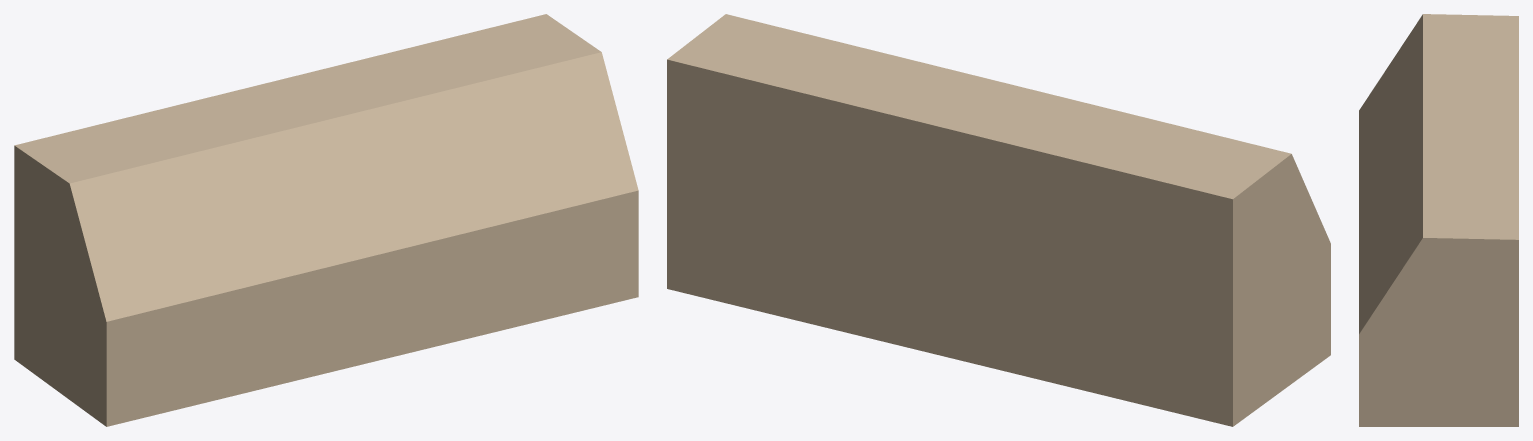
The model's file is SM_Ground_Curb_01.fbx.
3 views of the same model, side by side, from view 1: azimuth 30°, elevation 25°; view 2: azimuth 150°, elevation 25°; view 3: azimuth 270°, elevation 25° (orthographic). The views are drawn at different scales.
Parts seen in each view (by area): view 1: SM_Ground_Curb_01; view 2: SM_Ground_Curb_01; view 3: SM_Ground_Curb_01.
Part boxes in pixels (x1,y1,x2,y2): SM_Ground_Curb_01: [14, 14, 638, 426]; SM_Ground_Curb_01: [667, 14, 1330, 426]; SM_Ground_Curb_01: [1359, 14, 1518, 426].
Size of the model in its own units: 0.5 by 0.1958 by 0.15.
Materials: 1 (1 with a texture image).
